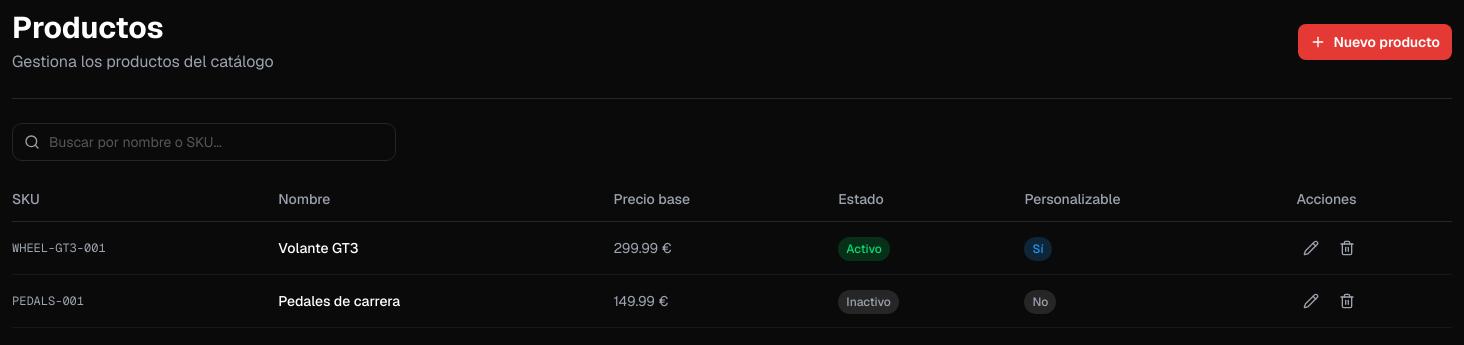
Test: ProductsContent › eliminar › al hacer clic en No oculta la confirmación
Expected: the text "Volante GT3" is shown, [278,222,614,274]
Click the button titled "Eliminar" in the row of "WHEEL-GT3-001" at coordinates (1346, 248), box [1332,234,1360,262]
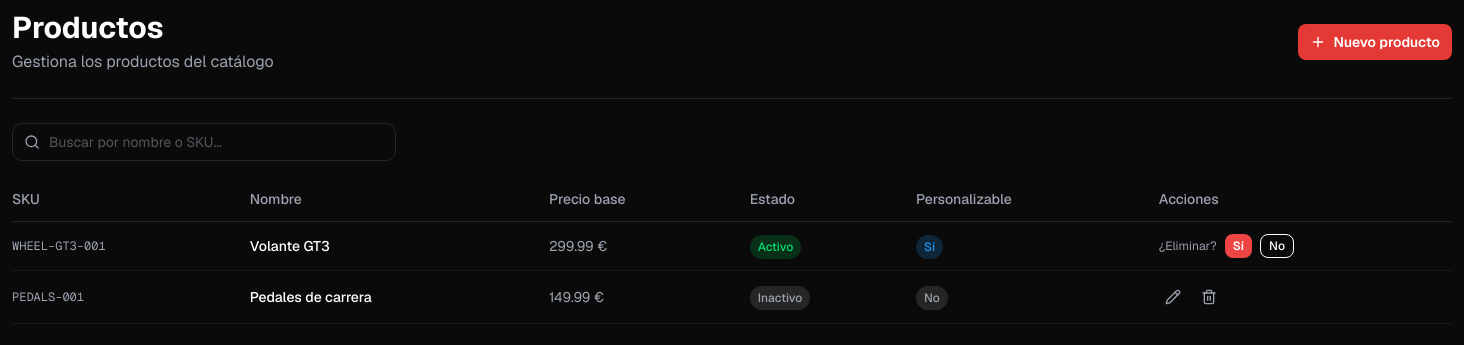
Click the button "No" at coordinates (1277, 246), box [1260,234,1294,258]
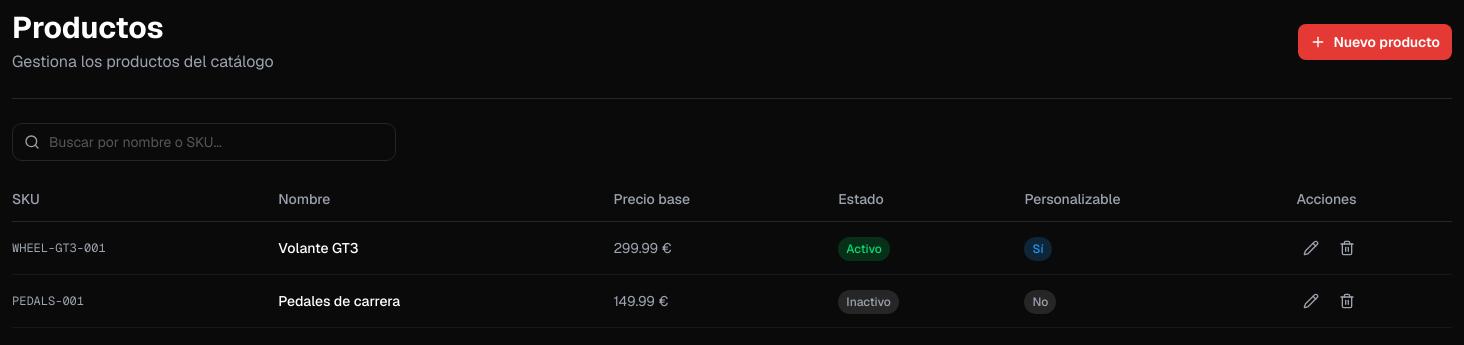
Expected: the text "¿Eliminar?" is gone
